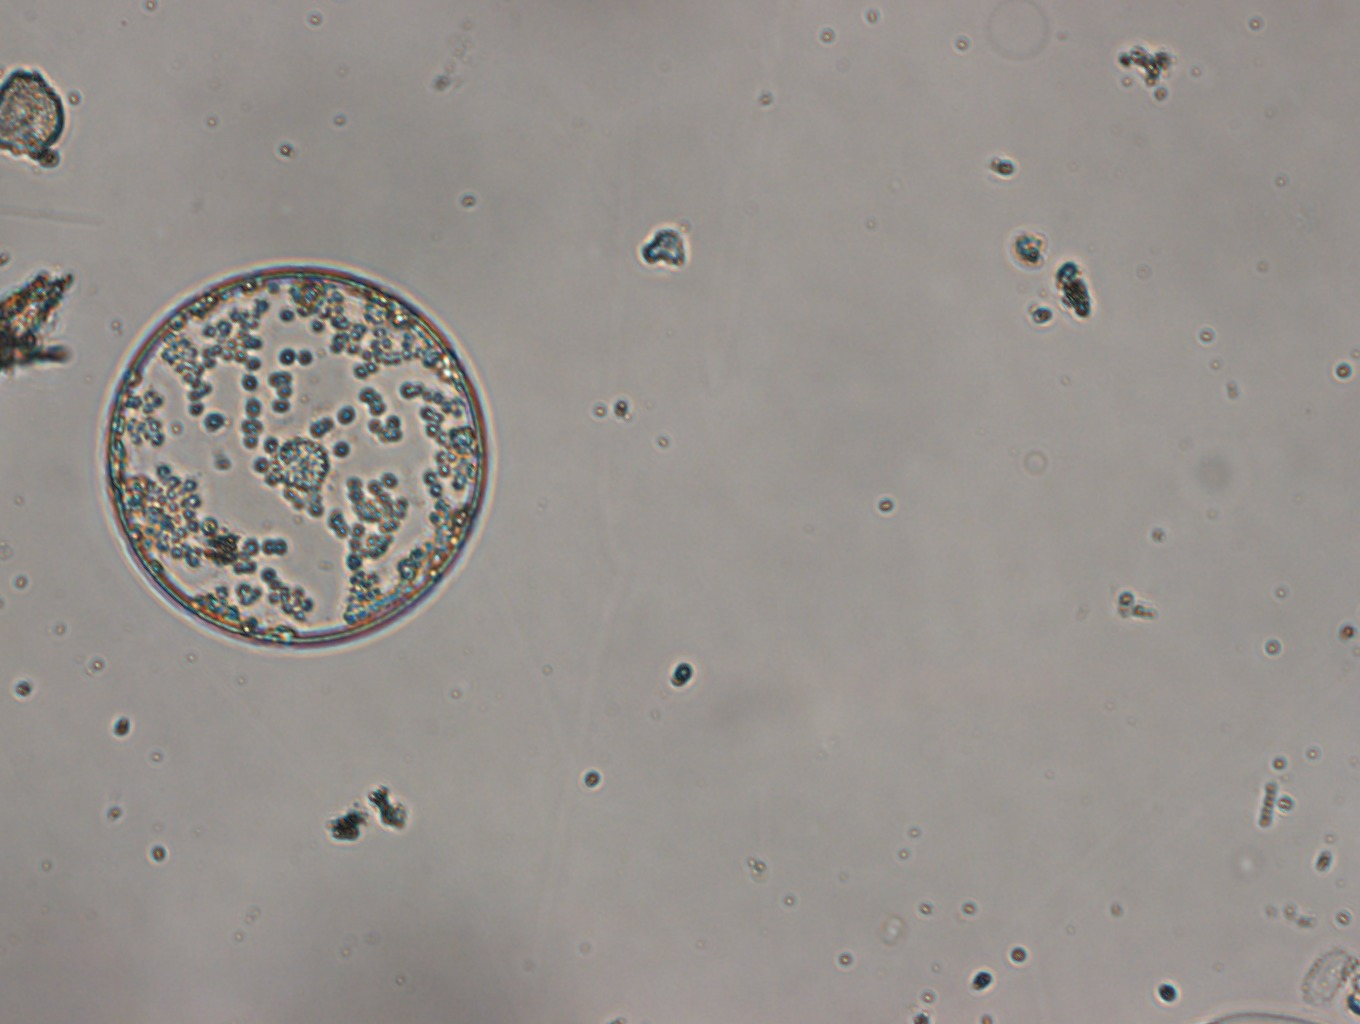coscinodiscus: (97, 246, 501, 666)
